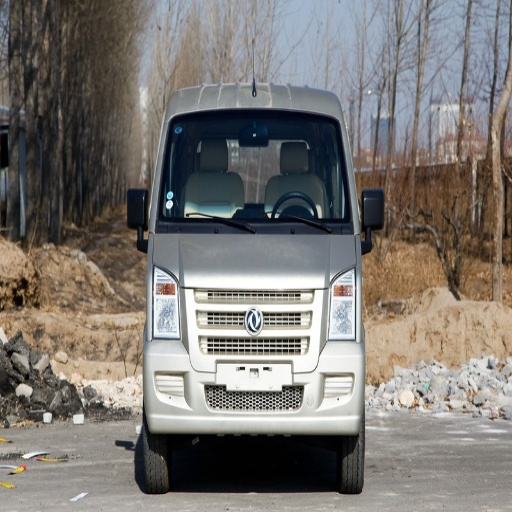front_bumper: (147, 287, 362, 432)
front_right_light: (153, 271, 182, 338)
hood: (160, 232, 354, 294)
